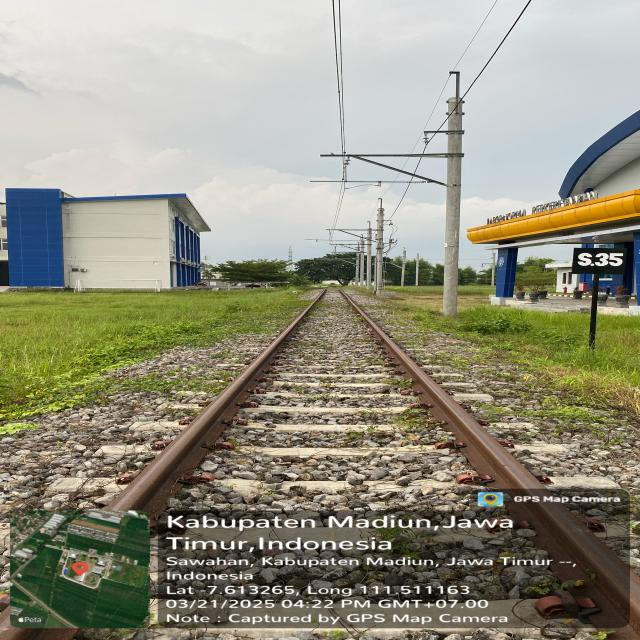rail-detection: (340, 289, 640, 624), (109, 287, 326, 519)
